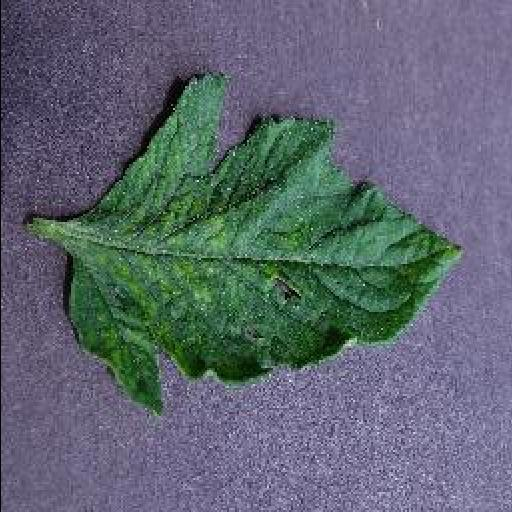Mosaic Virus: (66, 71, 462, 417)
